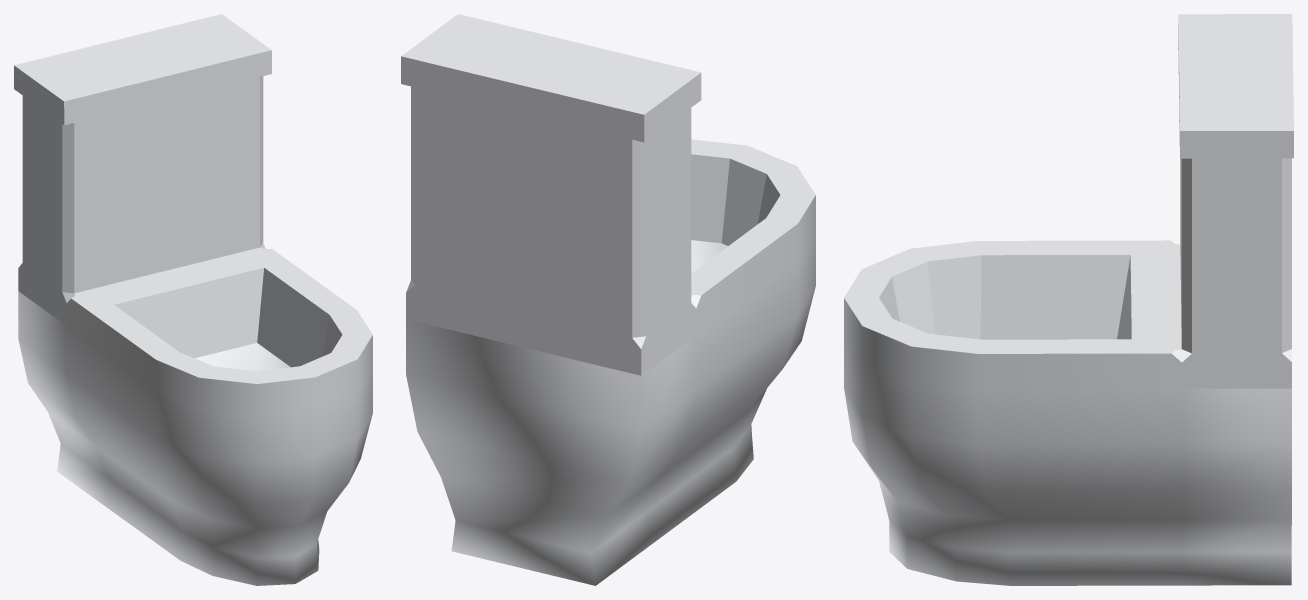
The model's file is Building_Toilet_seat.glb.
3 renders of one model, left to right at view 1: azimuth 30°, elevation 25°; view 2: azimuth 150°, elevation 25°; view 3: azimuth 270°, elevation 25°, orthographic. The views are drawn at different scales.
Parts seen in each view (by area): view 1: Building_Toilet_seat; view 2: Building_Toilet_seat; view 3: Building_Toilet_seat.
Boxes of the visible parts, bbox=[...] form: Building_Toilet_seat: bbox=[14, 14, 372, 585]; Building_Toilet_seat: bbox=[401, 14, 815, 585]; Building_Toilet_seat: bbox=[844, 14, 1293, 585].
Size of the model in its own units: 0.427 by 0.8127 by 0.693.
1 material, 1 textured.
